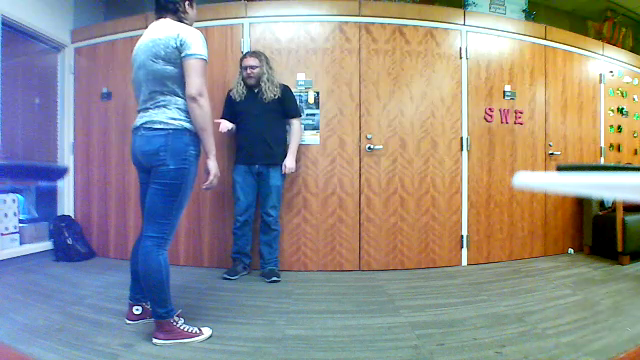land: (209, 114, 240, 135)
